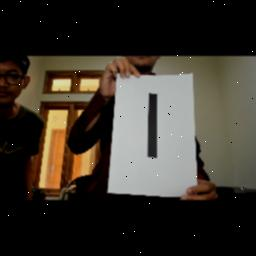i: (141, 88, 165, 164)
